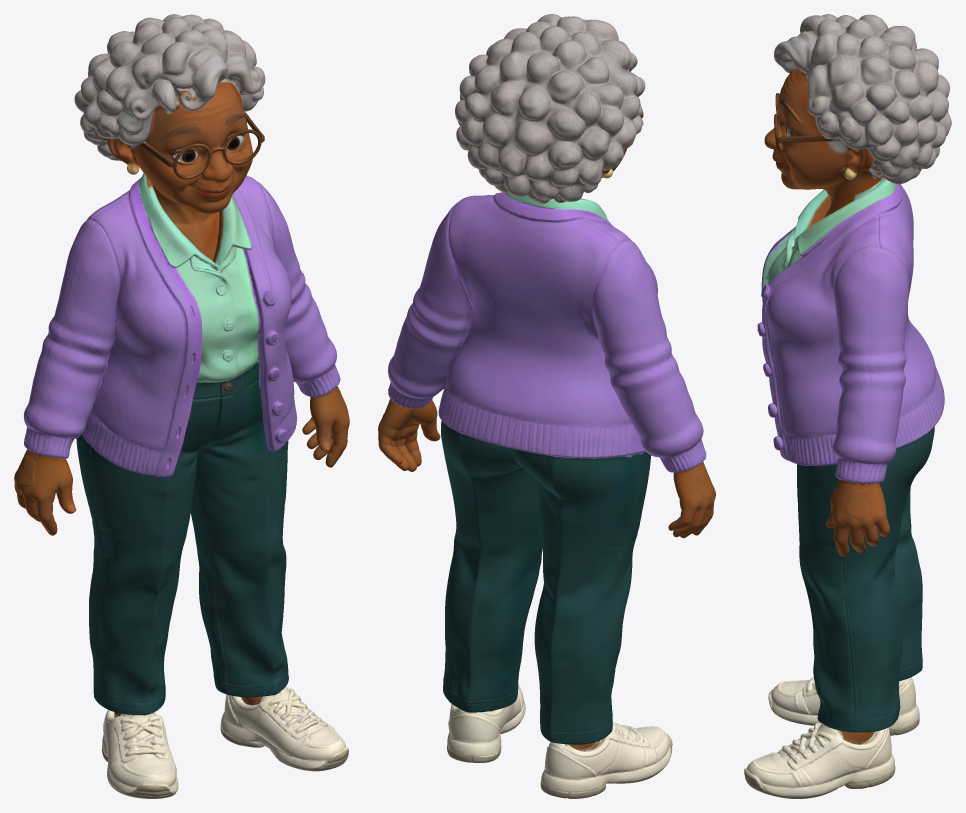
The model's file is Customer_08.glb.
3 renders of one model, left to right at view 1: azimuth 30°, elevation 25°; view 2: azimuth 150°, elevation 25°; view 3: azimuth 270°, elevation 25°, orthographic. The views are drawn at different scales.
Visible parts, largest first — view 1: tripo_node_eb1e5510-ceb3-45a7-a6ec-a70aa1385fb8; view 2: tripo_node_eb1e5510-ceb3-45a7-a6ec-a70aa1385fb8; view 3: tripo_node_eb1e5510-ceb3-45a7-a6ec-a70aa1385fb8.
Boxes of the visible parts, x1=… form: tripo_node_eb1e5510-ceb3-45a7-a6ec-a70aa1385fb8: x1=14, y1=14, x2=349, y2=798; tripo_node_eb1e5510-ceb3-45a7-a6ec-a70aa1385fb8: x1=378, y1=14, x2=715, y2=798; tripo_node_eb1e5510-ceb3-45a7-a6ec-a70aa1385fb8: x1=744, y1=14, x2=951, y2=798.
Bounding box in the file's own units: 0.4501 × 0.9797 × 0.2557.
Materials: 1 (1 with a texture image).
